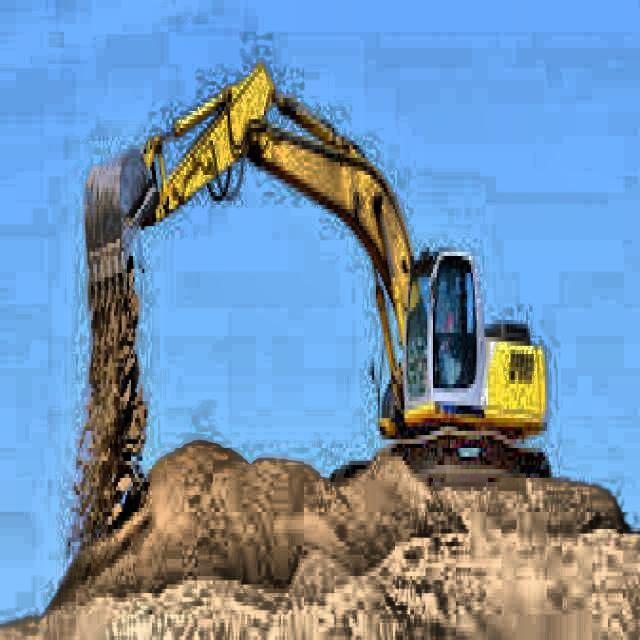bull_dozer/loader/grader: (82, 57, 554, 502)
person: (440, 290, 458, 358)
